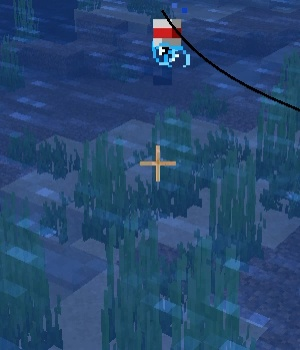up: (143, 11, 185, 83)
